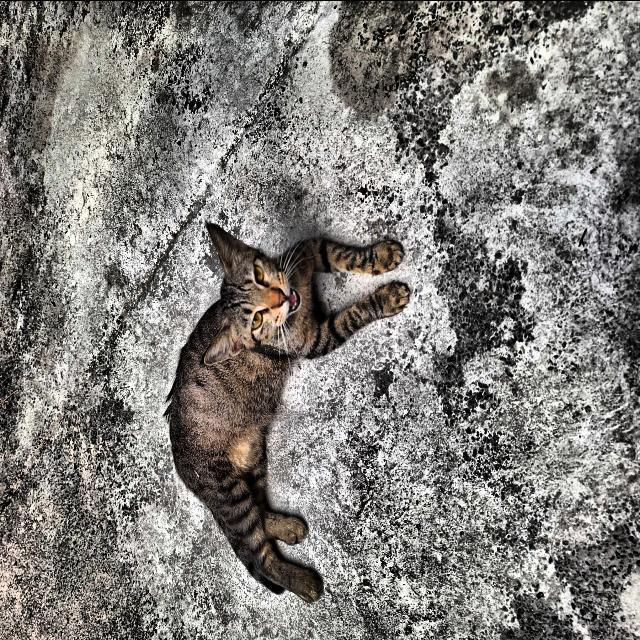Healthy skin: (185, 356, 249, 452), (237, 492, 304, 562)
